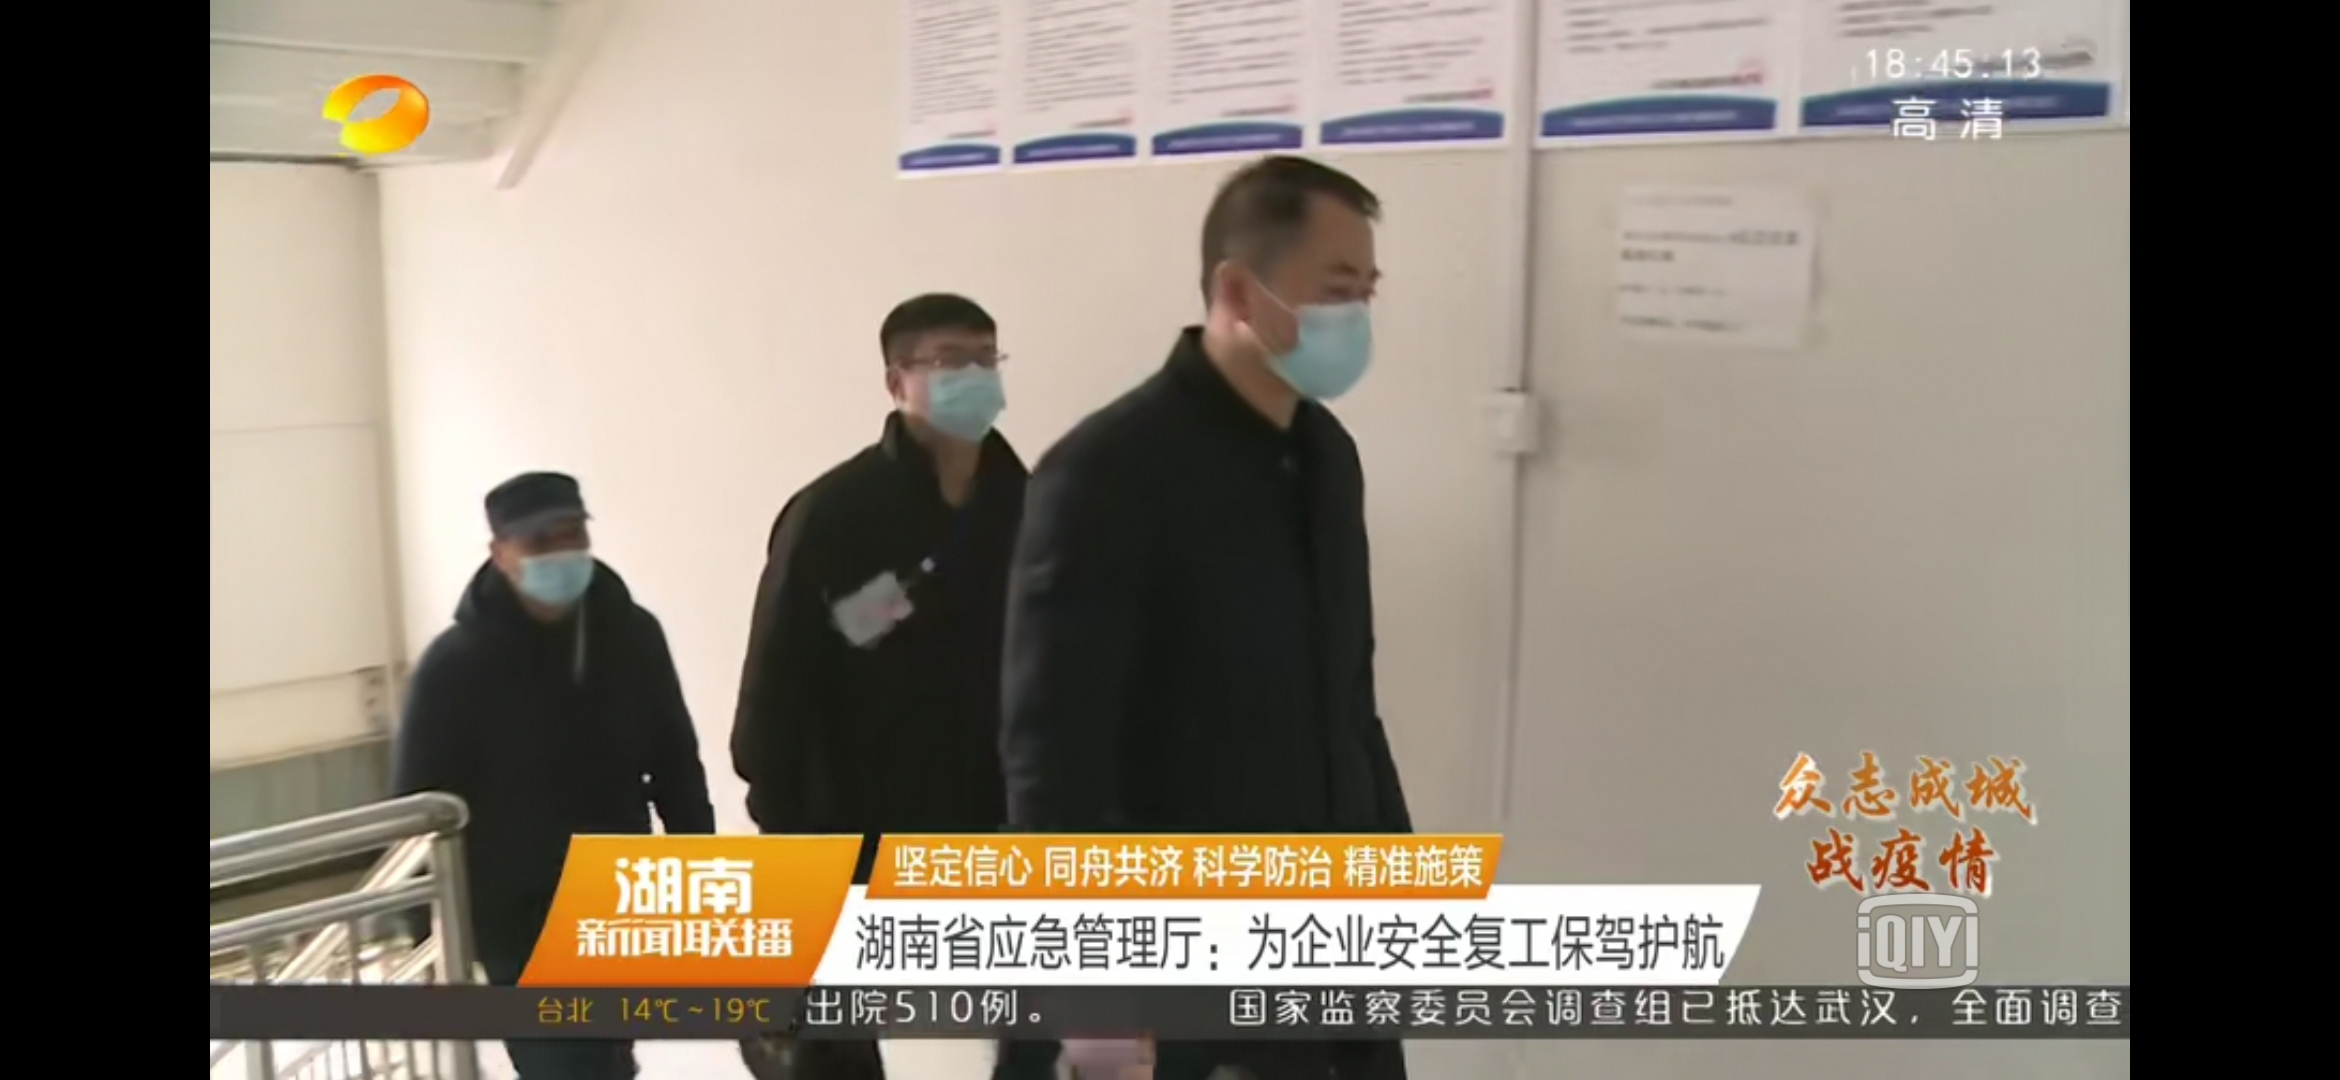correctlyWear: (1213, 234, 1382, 401), (886, 328, 1007, 448), (488, 518, 595, 612)
